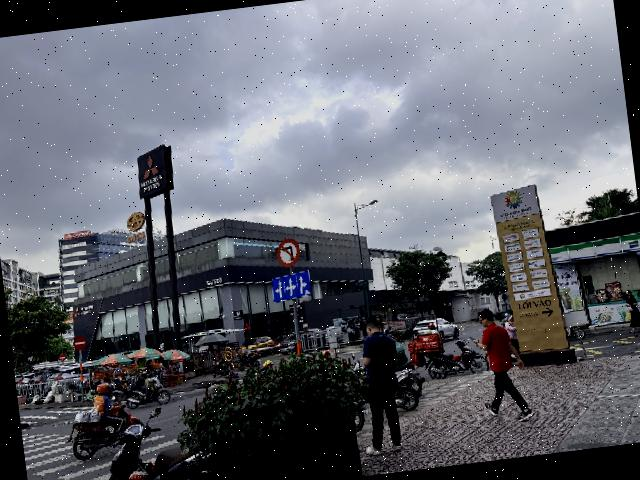cam-di-nguoc-chieu: (72, 335, 86, 351)
cam-re-trai: (275, 236, 301, 268)
